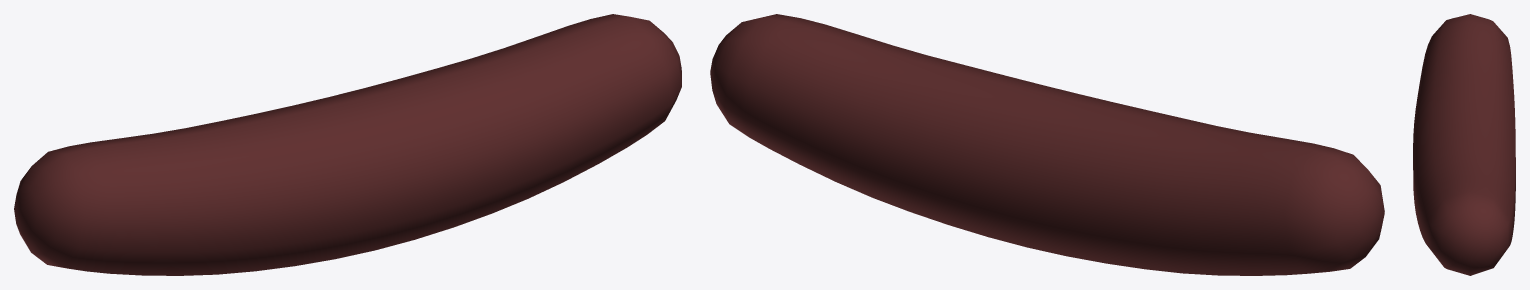
Rendered from char_mouth_flat.glb.
The picture shows the model from 3 angles, left to right: view 1: azimuth 30°, elevation 25°; view 2: azimuth 150°, elevation 25°; view 3: azimuth 270°, elevation 25°; orthographic projection. The views are drawn at different scales.
Visible parts, largest first — view 1: char_mouth_flat; view 2: char_mouth_flat; view 3: char_mouth_flat.
Boxes of the visible parts, x1,y1,x2,y2 form: char_mouth_flat: [14, 14, 681, 275]; char_mouth_flat: [710, 14, 1384, 275]; char_mouth_flat: [1413, 14, 1515, 275].
Size of the model in its own units: 0.0726 by 0.017 by 0.0149.
